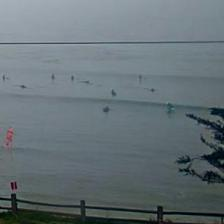surfer: (19, 84, 27, 90), (102, 107, 110, 113), (80, 80, 91, 84), (110, 89, 116, 96), (150, 87, 155, 92), (2, 74, 6, 79), (71, 76, 74, 82), (51, 74, 54, 79), (139, 74, 142, 79)
